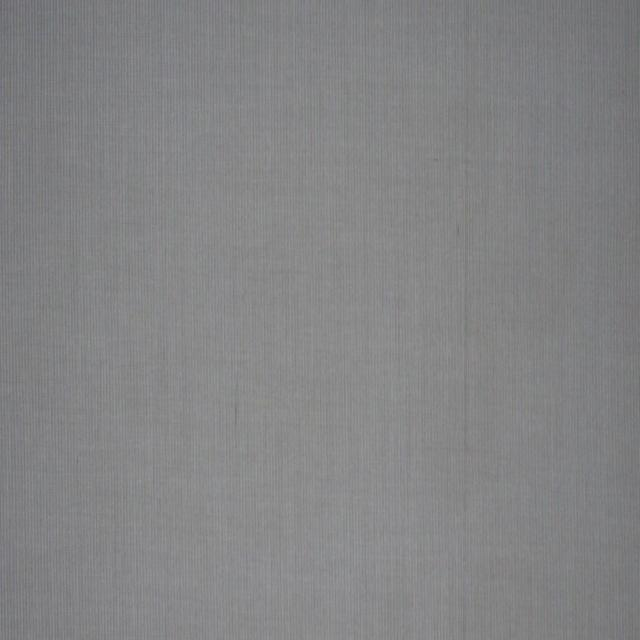dirty: (235, 393, 237, 432), (458, 222, 460, 238)
